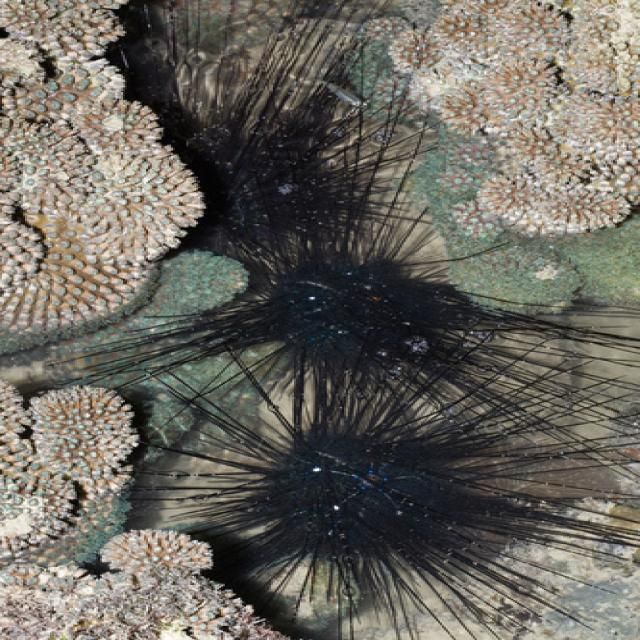Urchin: (121, 390, 627, 630), (104, 240, 621, 400), (110, 25, 456, 248)
